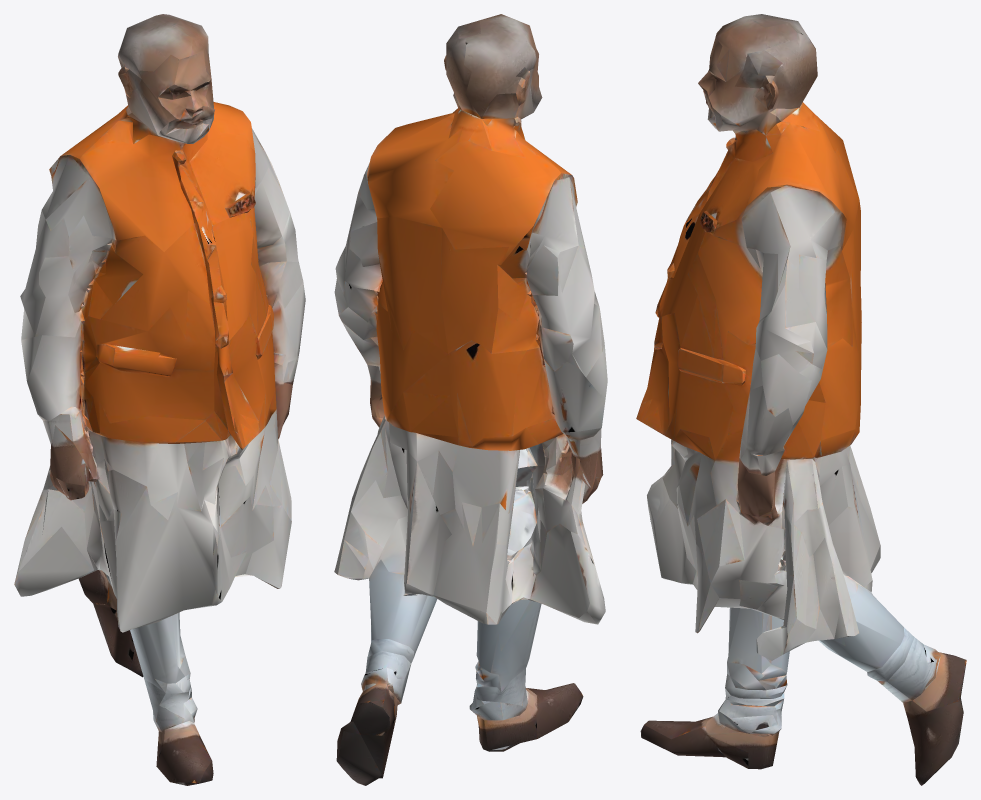
The model's file is modi.glb.
3 views of the same model, side by side, from view 1: azimuth 30°, elevation 25°; view 2: azimuth 150°, elevation 25°; view 3: azimuth 270°, elevation 25° (orthographic). The views are drawn at different scales.
Visible parts, largest first — view 1: output_unwrapped; view 2: output_unwrapped; view 3: output_unwrapped.
Boxes of the visible parts, x1,y1,x2,y2 form: output_unwrapped: (14,14,305,785); output_unwrapped: (334,14,607,785); output_unwrapped: (636,14,966,785).
Bounding box in the file's own units: 0.7824 × 2 × 0.8023.
1 material, 1 textured.
